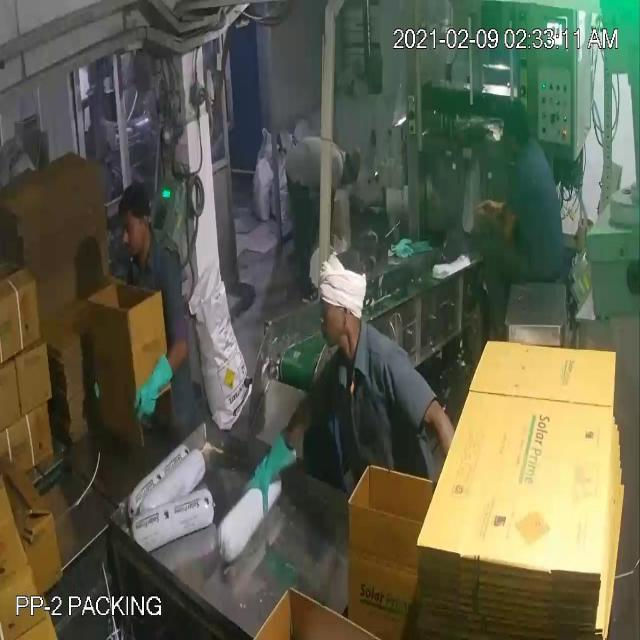Gloves: (53, 68, 495, 474)
